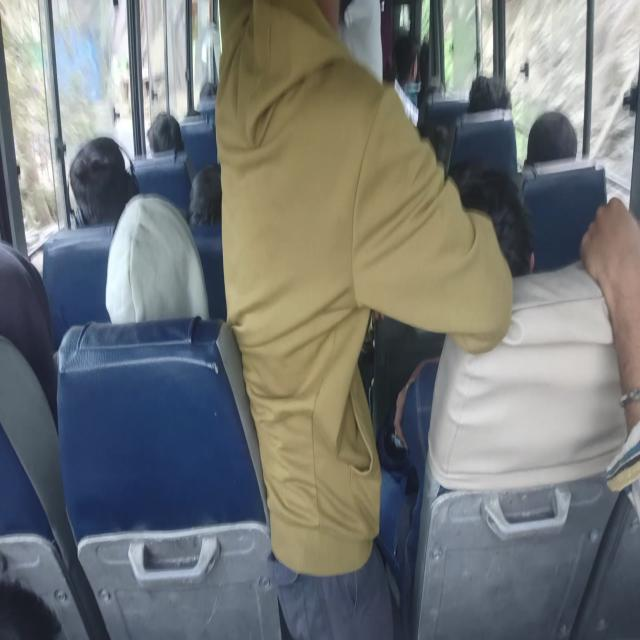person: (218, 4, 420, 492), (577, 215, 640, 406), (108, 214, 209, 326), (0, 248, 57, 398), (466, 176, 530, 283), (62, 152, 146, 217), (332, 0, 388, 83), (524, 116, 579, 169), (184, 176, 230, 232), (466, 72, 511, 120), (414, 125, 456, 175), (143, 115, 180, 156), (390, 44, 424, 82), (193, 77, 219, 106)
